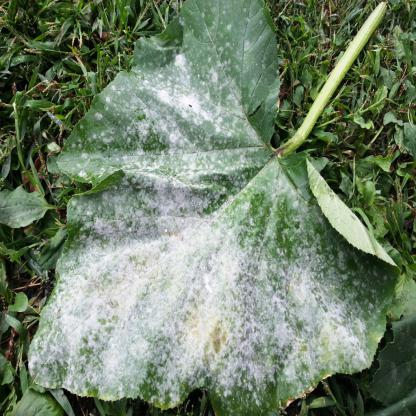Squash Powdery mildew leaf: (23, 1, 394, 404)
